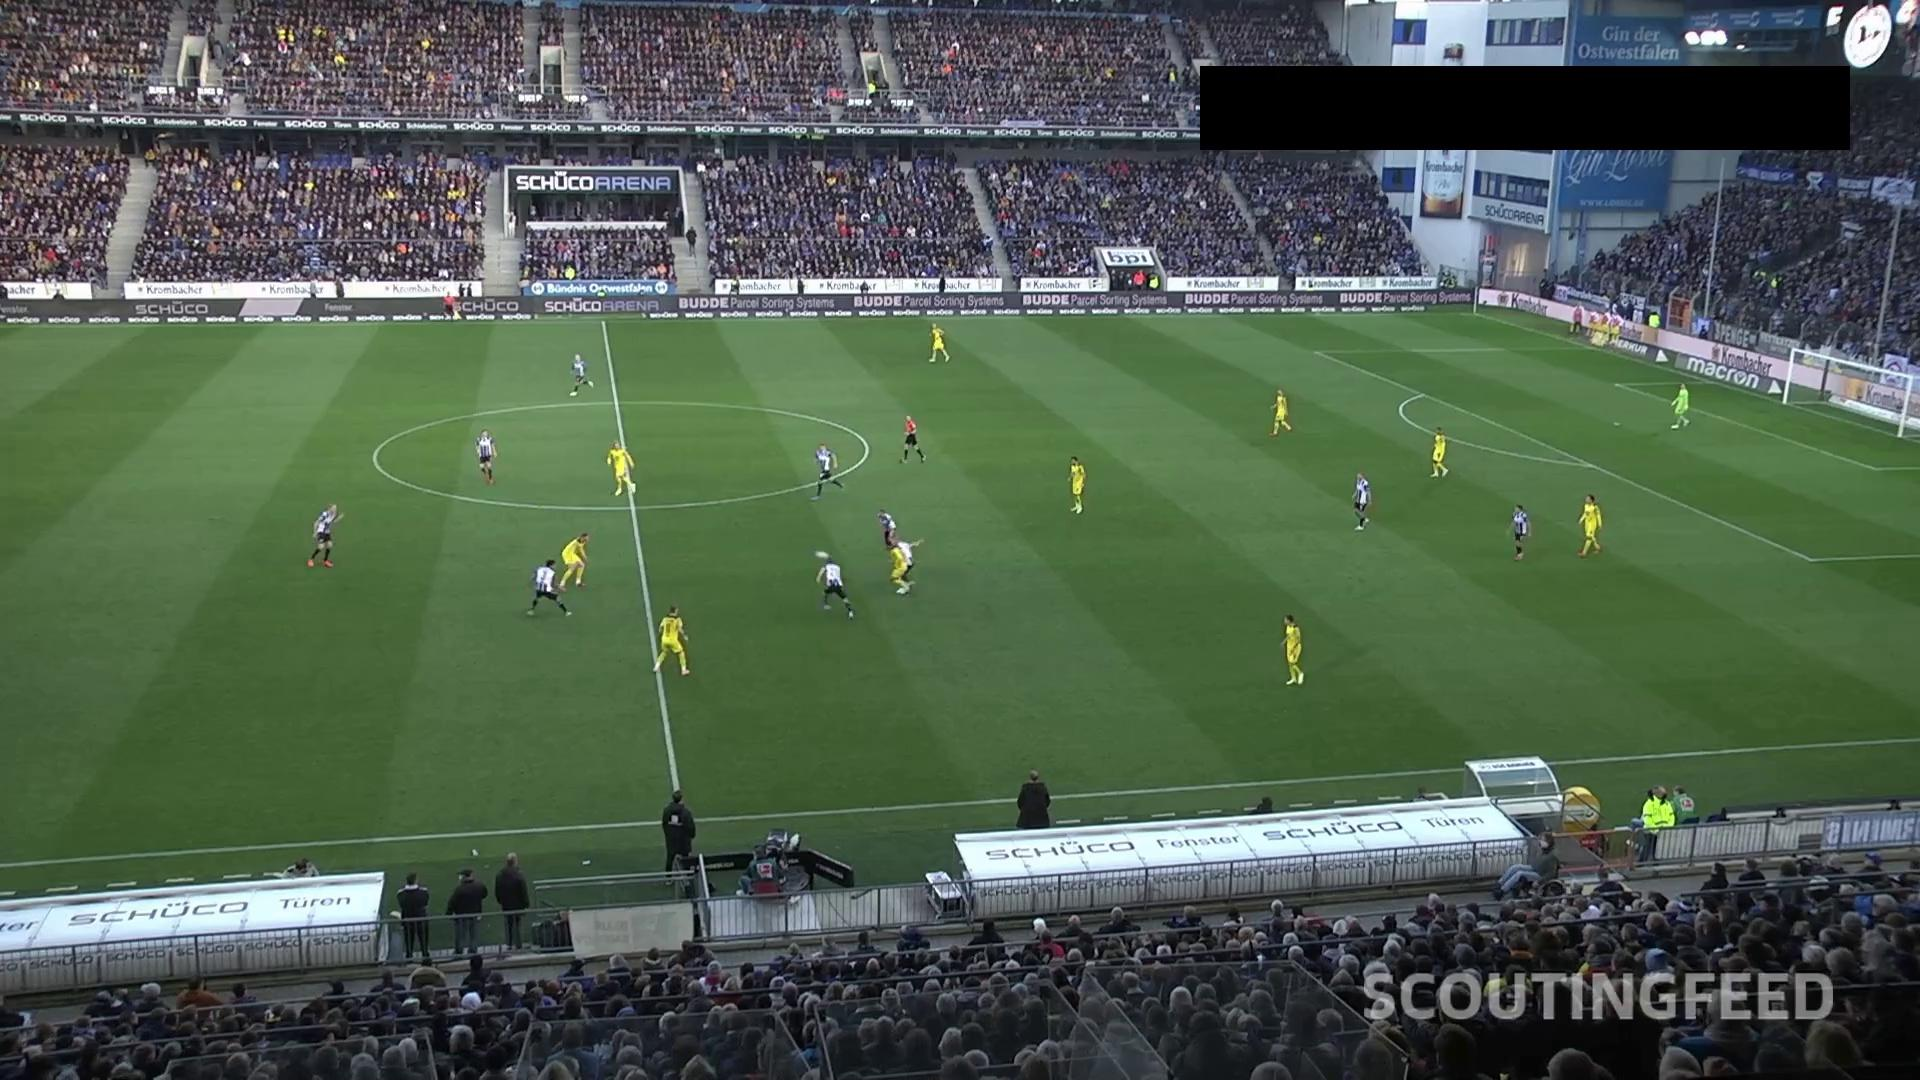Location-of-ball: (812, 547, 839, 568)
